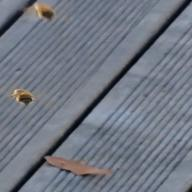Bee: (18, 0, 67, 29), (0, 87, 47, 109)
